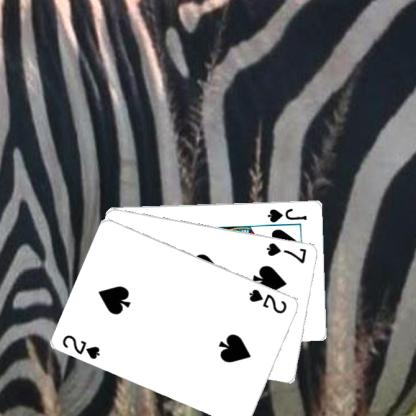2S: (246, 286, 288, 315), (60, 332, 102, 361)
7S: (264, 240, 308, 264)
JS: (265, 205, 308, 223)
